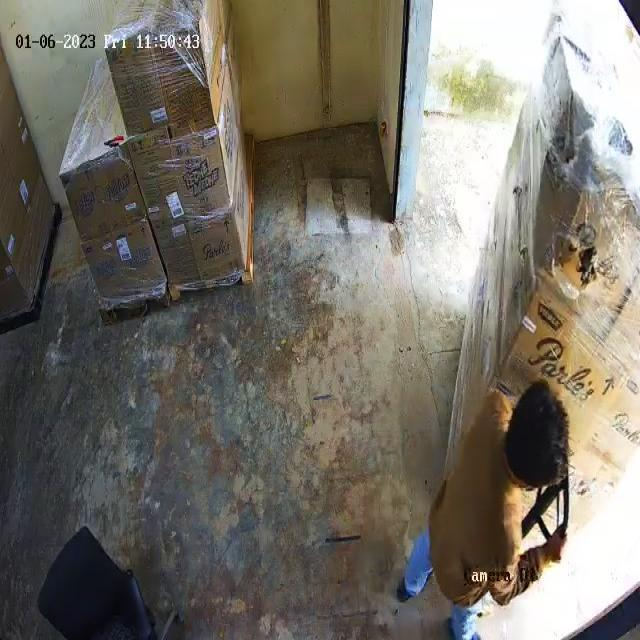leakage: (564, 228, 607, 300)
